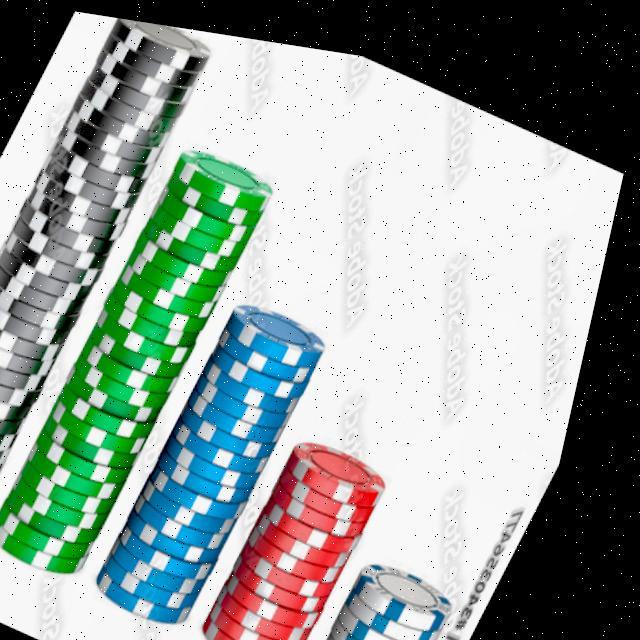Chip: (0, 109, 298, 599), (0, 0, 224, 555), (100, 260, 359, 640), (209, 404, 421, 640), (319, 527, 493, 640)
